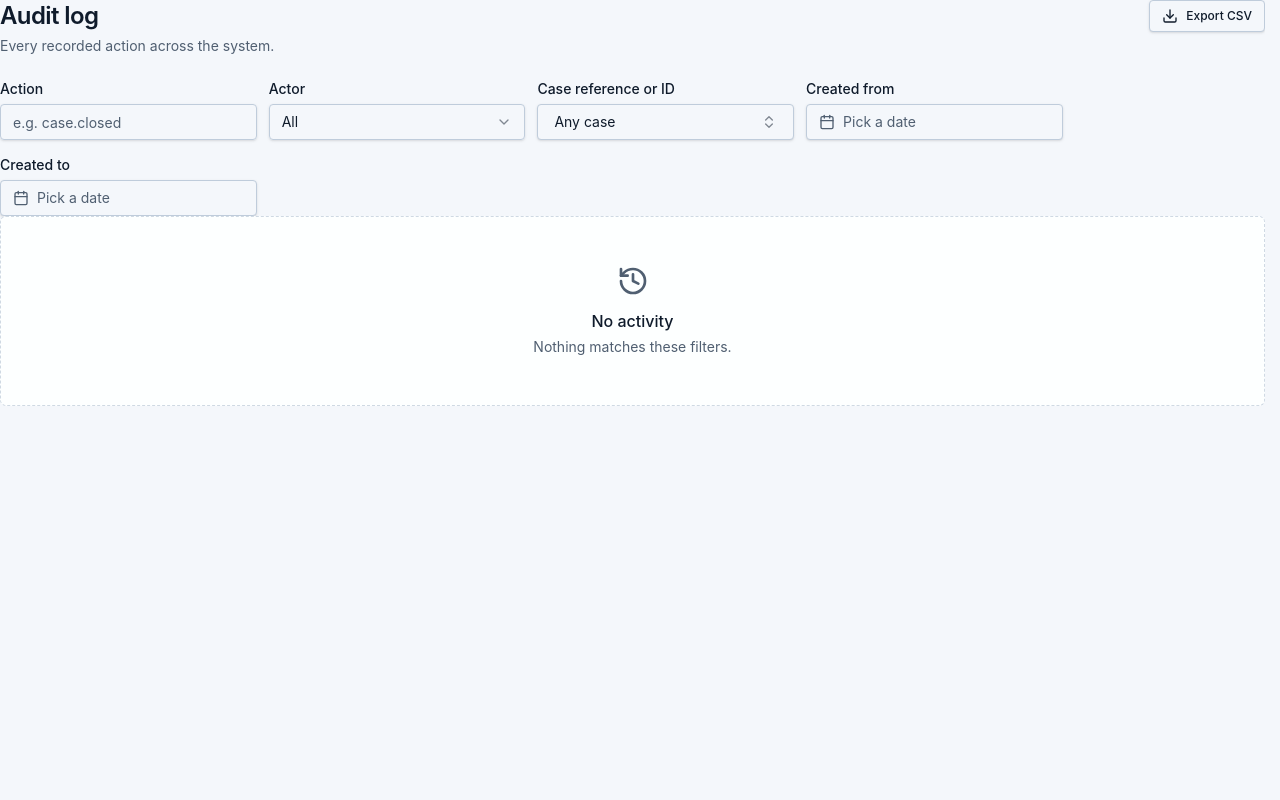
Scenario: AuditPage › shows the case list in a dropdown as soon as the field is focused, before typing anything
Click the dropdown named "case reference or id".
click(666, 122)  # box [537,104,794,140]
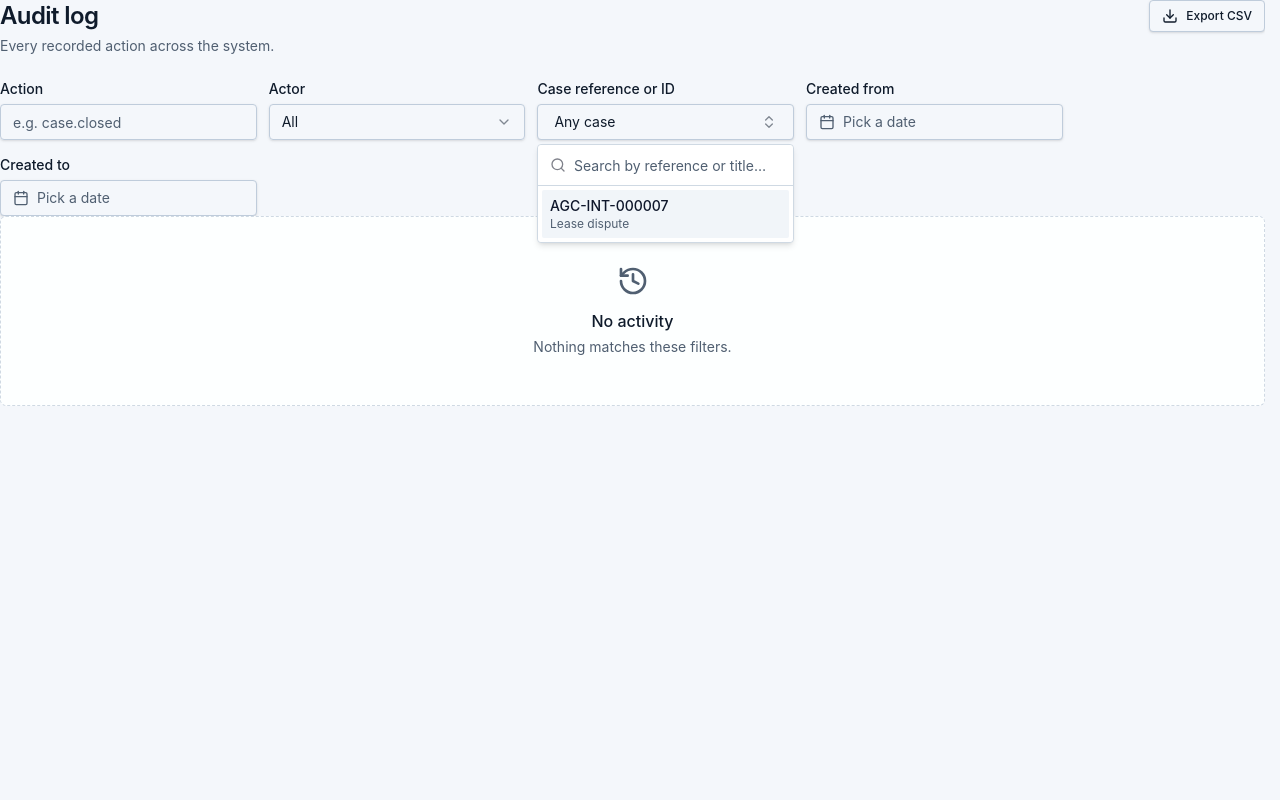
Check: the text "Lease dispute" is shown, box [550,216,629,231]
Click the text "AGC-INT-000007".
click(609, 206)  # box [550,196,669,216]
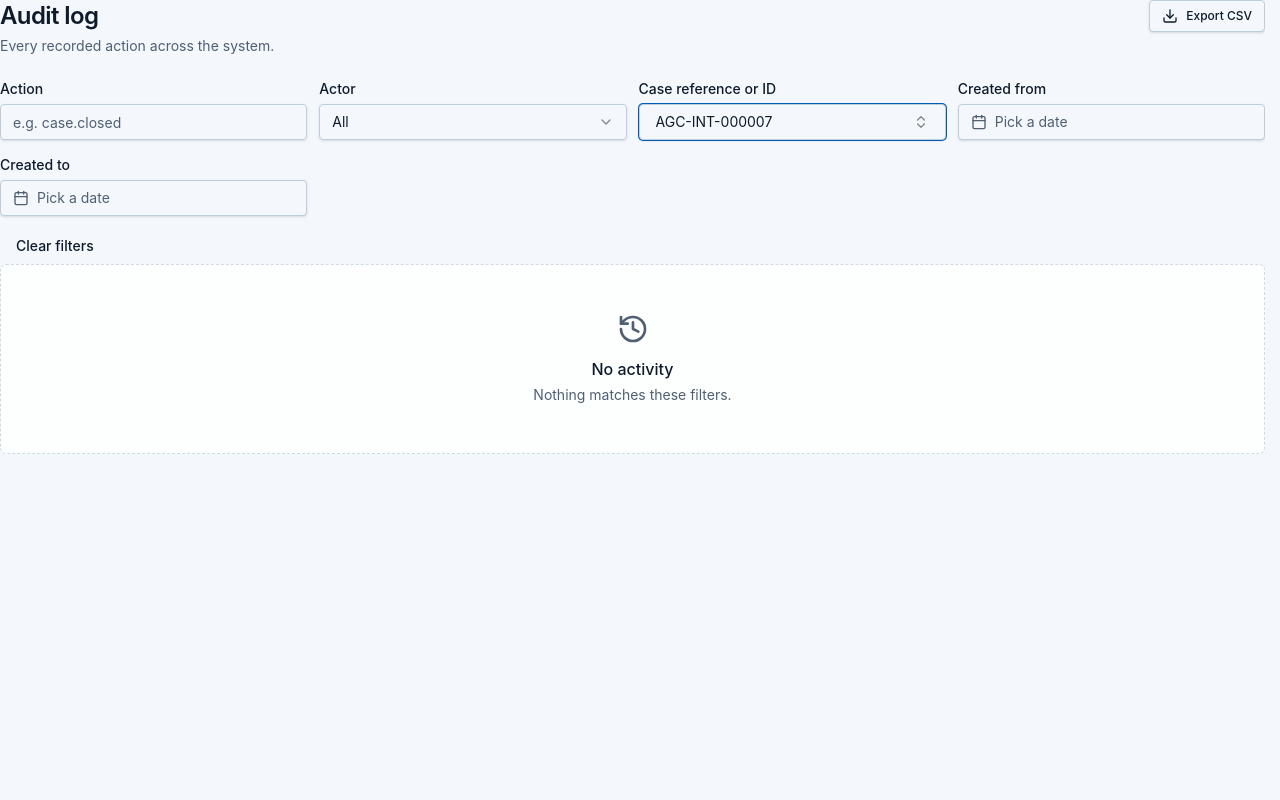
Check: the dropdown named "case reference or id" reads "AGC-INT-000007", box [638,104,946,140]
